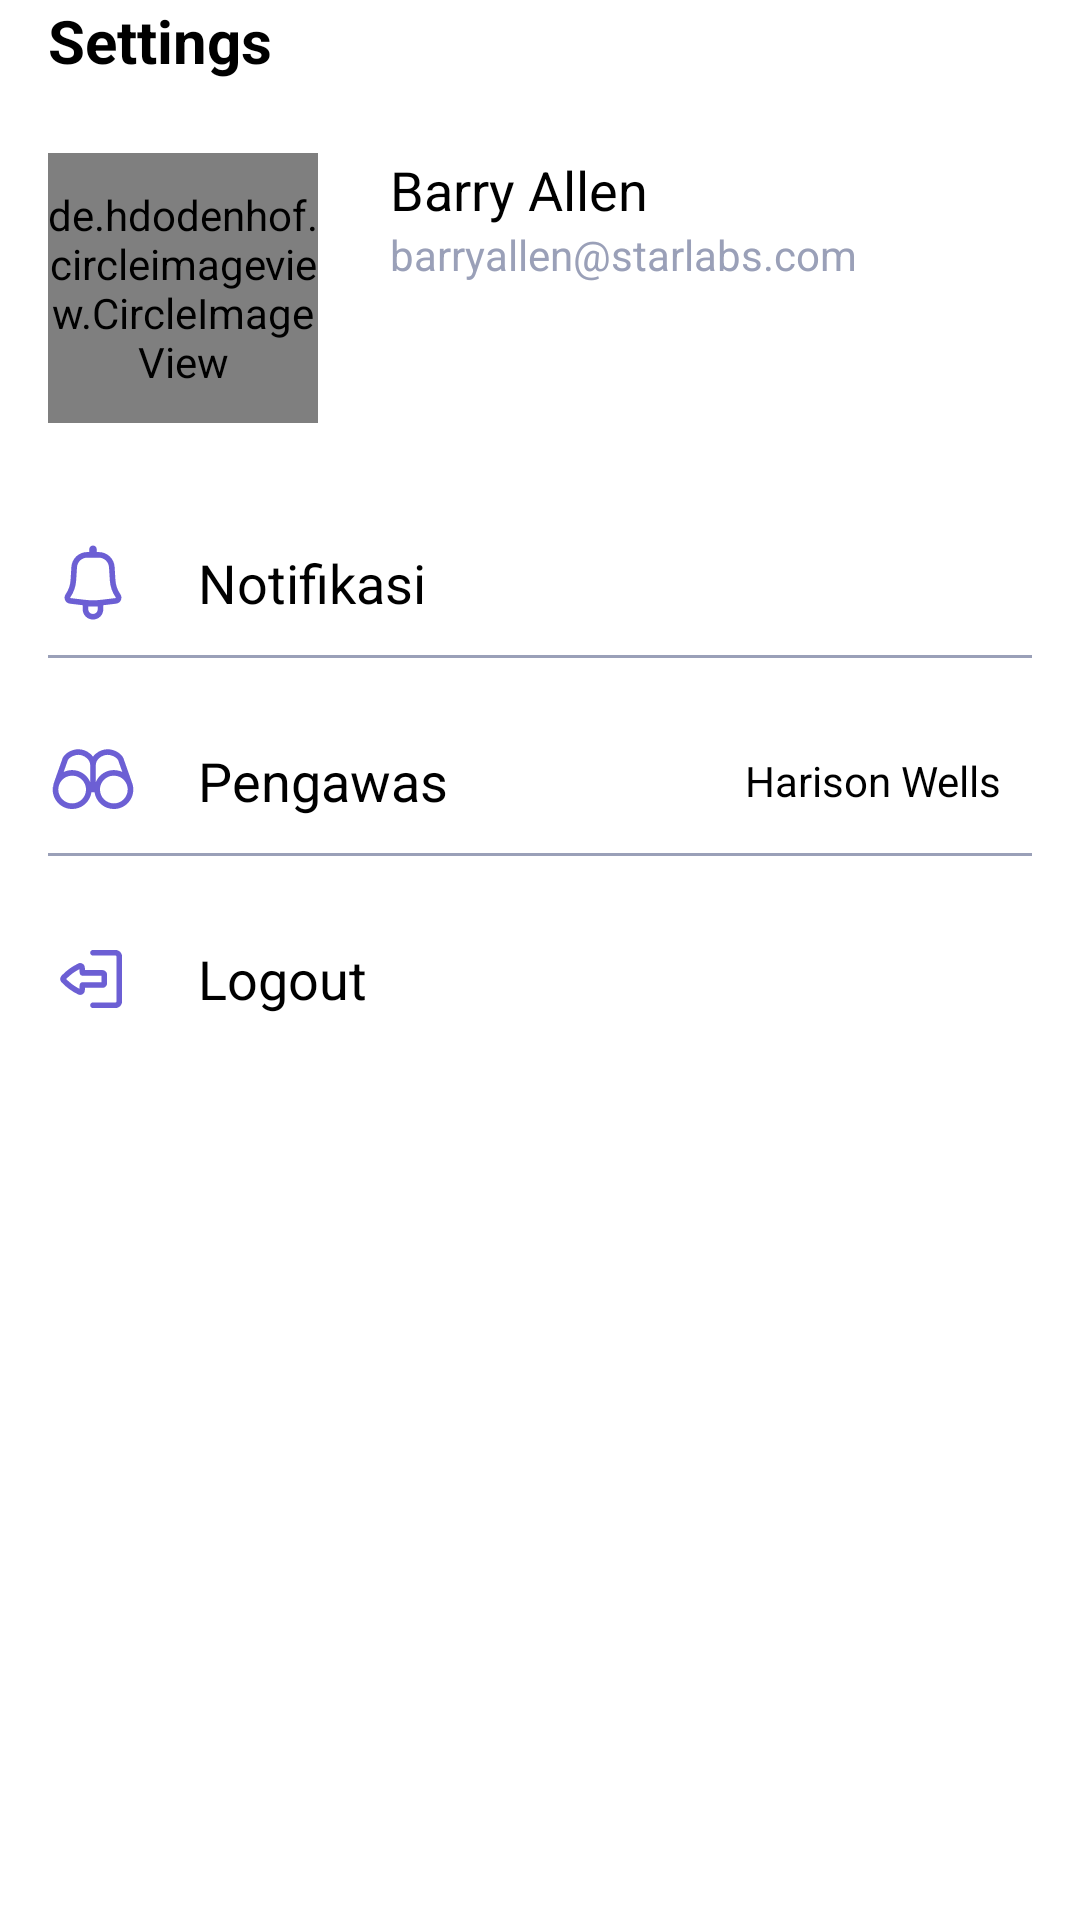

Icon bounding boxes for this 1080px x 1920px phone screenshot, format (x1, y1, x2, y2):
binocular secondary: (52, 749, 134, 809)
notification seondary: (64, 545, 122, 620)
